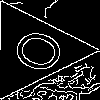O: (8, 25, 78, 82)
